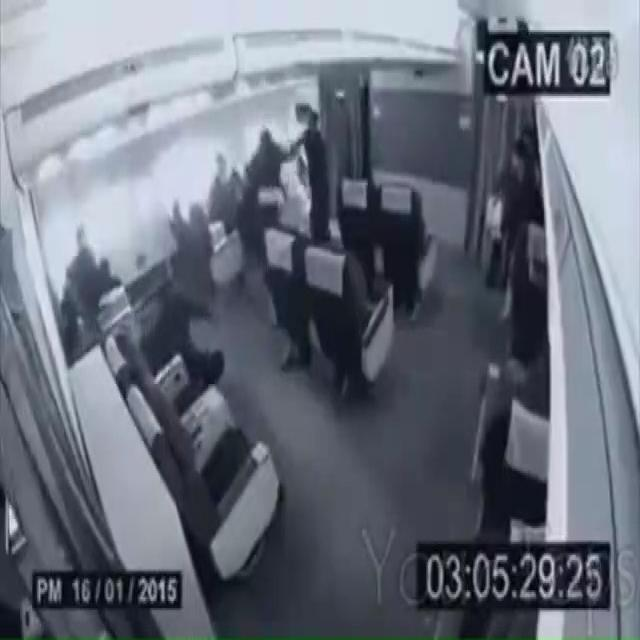fight: (218, 64, 340, 270)
